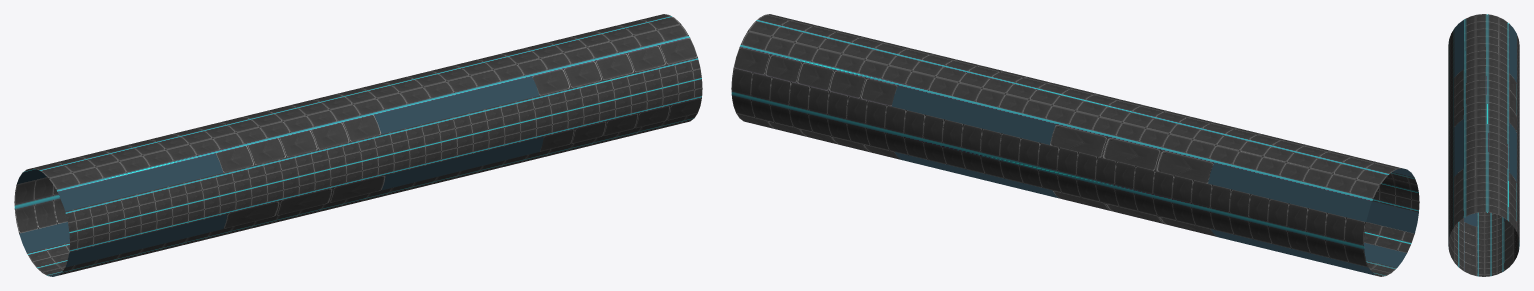
3 renders of one model, left to right at view 1: azimuth 30°, elevation 25°; view 2: azimuth 150°, elevation 25°; view 3: azimuth 270°, elevation 25°, orthographic. The views are drawn at different scales.
Visible parts, largest first — view 1: tube, windows; view 2: tube, windows; view 3: tube, windows.
Part boxes in pixels (x1,y1,x2,y2): tube: (14, 14, 702, 275); windows: (16, 76, 543, 276); tube: (731, 14, 1419, 276); windows: (892, 86, 1418, 275); tube: (1448, 14, 1519, 276); windows: (1454, 20, 1516, 226).
Bounding box in the file's own units: 3688 × 561 × 561.
